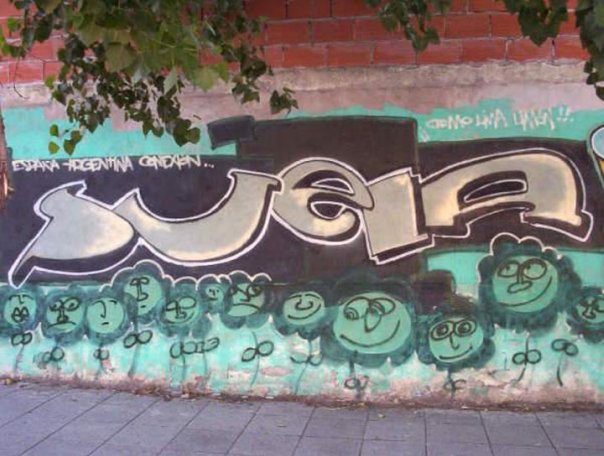graffity: (5, 117, 599, 291), (1, 231, 602, 391), (7, 152, 218, 178), (415, 105, 576, 134)
